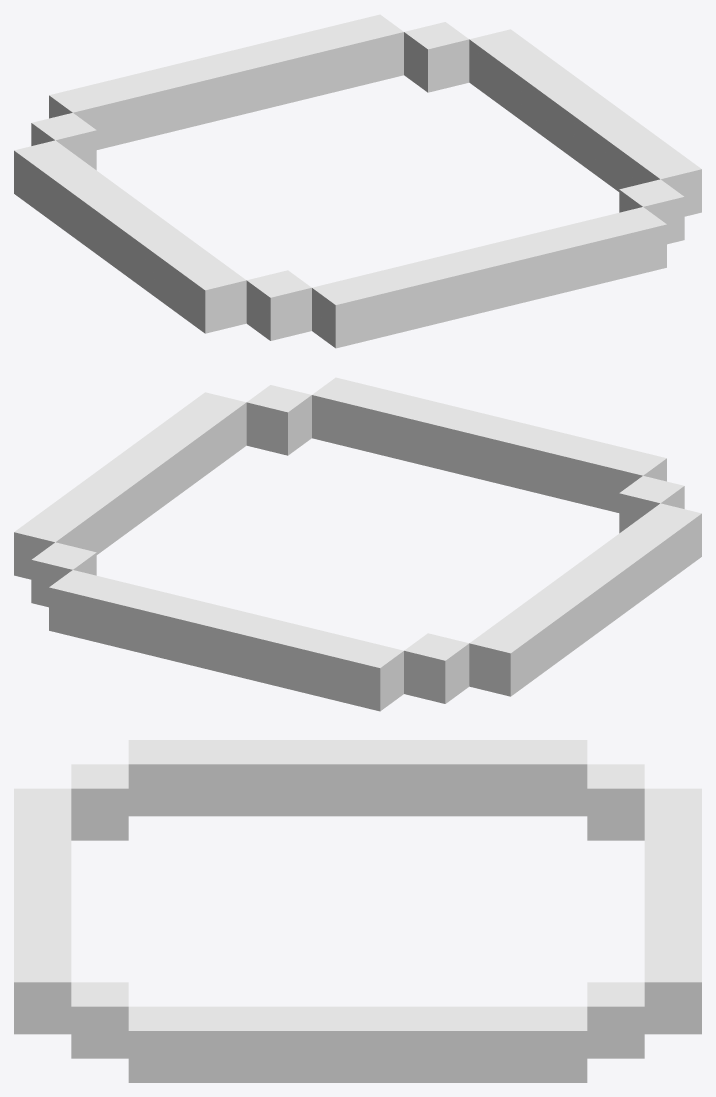
The model's file is tile_hint.obj.
3 renders of one model, top to bottom at view 1: azimuth 30°, elevation 25°; view 2: azimuth 150°, elevation 25°; view 3: azimuth 270°, elevation 25°, orthographic. The views are drawn at different scales.
Bounding box in the file's own units: 1.2 × 0.1 × 1.2.
Materials: 1 (1 with a texture image).
